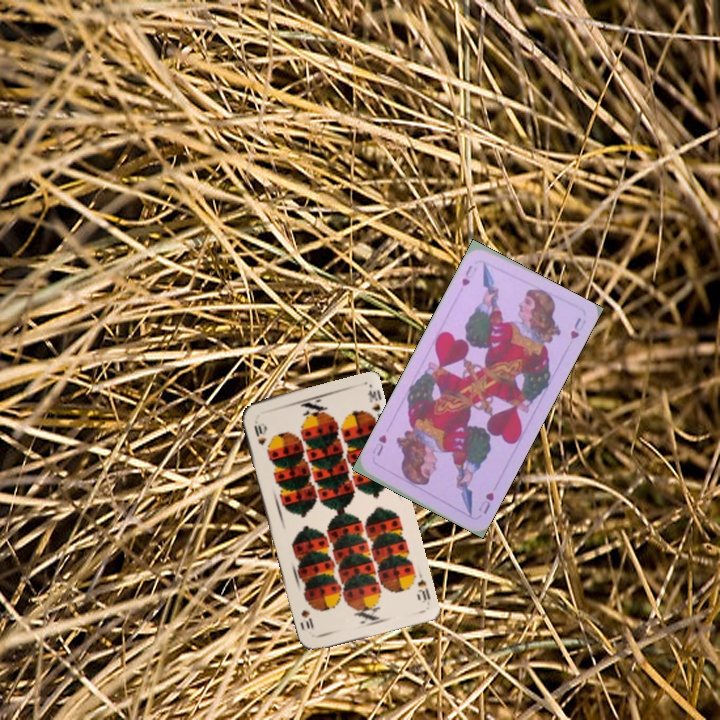HU: (474, 488, 497, 517), (458, 261, 480, 289)
S10: (413, 567, 433, 603), (250, 416, 268, 448)
